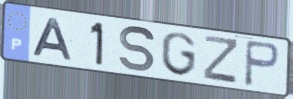1: (88, 21, 105, 68)
A: (30, 17, 75, 62)
G: (160, 31, 199, 78)
P: (242, 38, 282, 90)
S: (118, 24, 158, 74)
Z: (201, 34, 240, 86)
